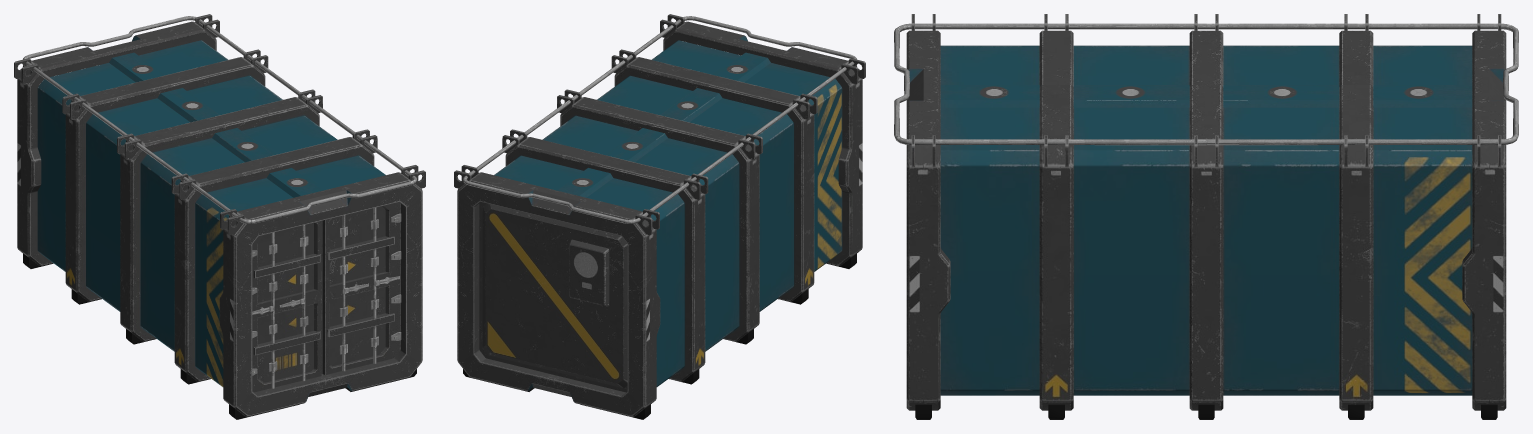
File: container_teal.glb
The picture shows the model from 3 angles, left to right: view 1: azimuth 30°, elevation 25°; view 2: azimuth 150°, elevation 25°; view 3: azimuth 270°, elevation 25°; orthographic projection. The views are drawn at different scales.
Visible parts, largest first — view 1: prop_container2.010, prop_container2door2.010, prop_container2door1.010; view 2: prop_container2.010; view 3: prop_container2.010.
Boxes of the visible parts, left/top/right/bottom form: prop_container2.010: left=14, top=14, right=425, bottom=419; prop_container2door2.010: left=322, top=202, right=401, bottom=374; prop_container2door1.010: left=252, top=220, right=322, bottom=392; prop_container2.010: left=454, top=14, right=865, bottom=419; prop_container2.010: left=894, top=14, right=1518, bottom=419.
Bounding box in the file's own units: 3.13 × 3.11 × 6.25.
2 materials, 2 textured.
